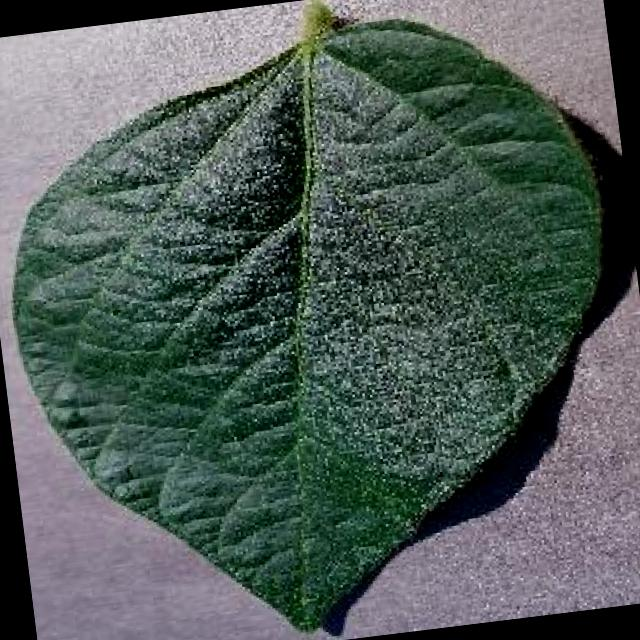healthy: (17, 4, 599, 631)
